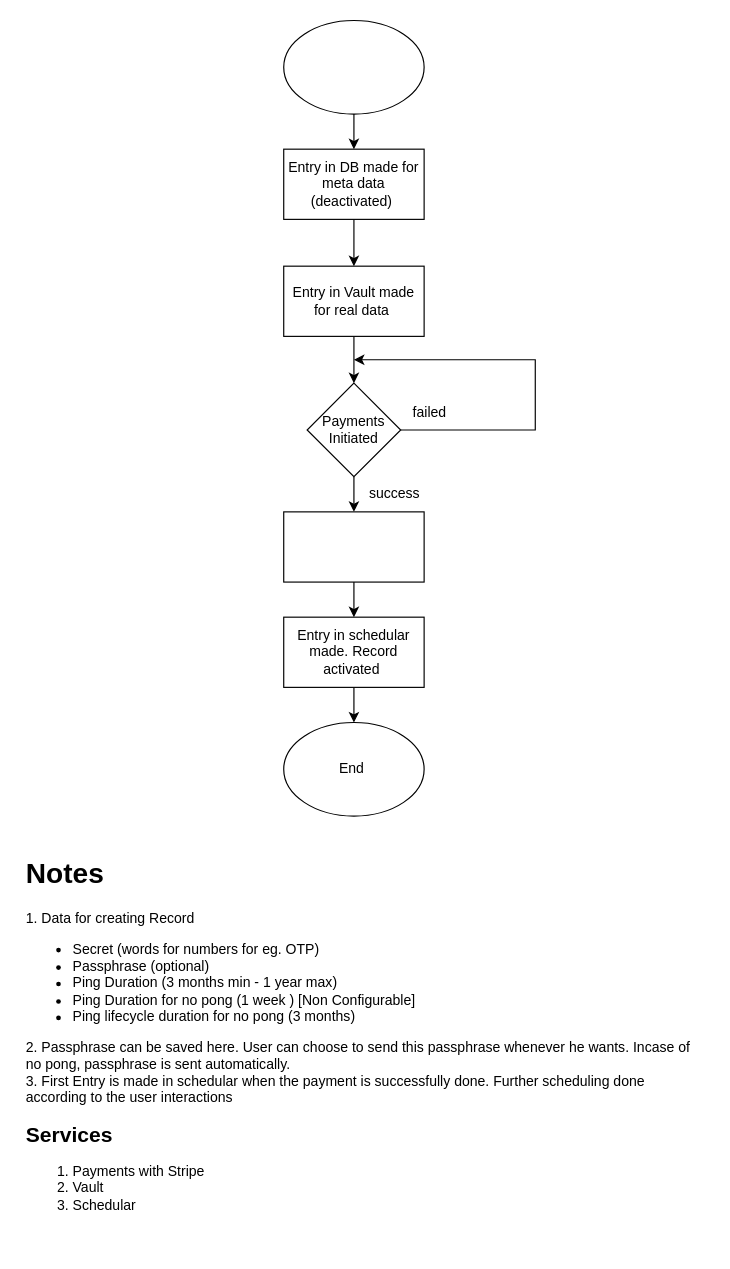
This 730x1269 diagram has some shape labels left out. The shapes that lost their labels are listed below. From the top down, each one's box as (x1, y1, x2, y2) in pixels, then its label:
(283, 19, 424, 114): Create Record
(283, 511, 424, 582): Mail with the passphrase sent to hier
